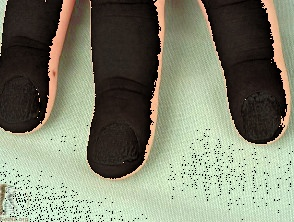Nail_psoriasis: (235, 85, 291, 145), (89, 113, 146, 171), (0, 67, 46, 130)
